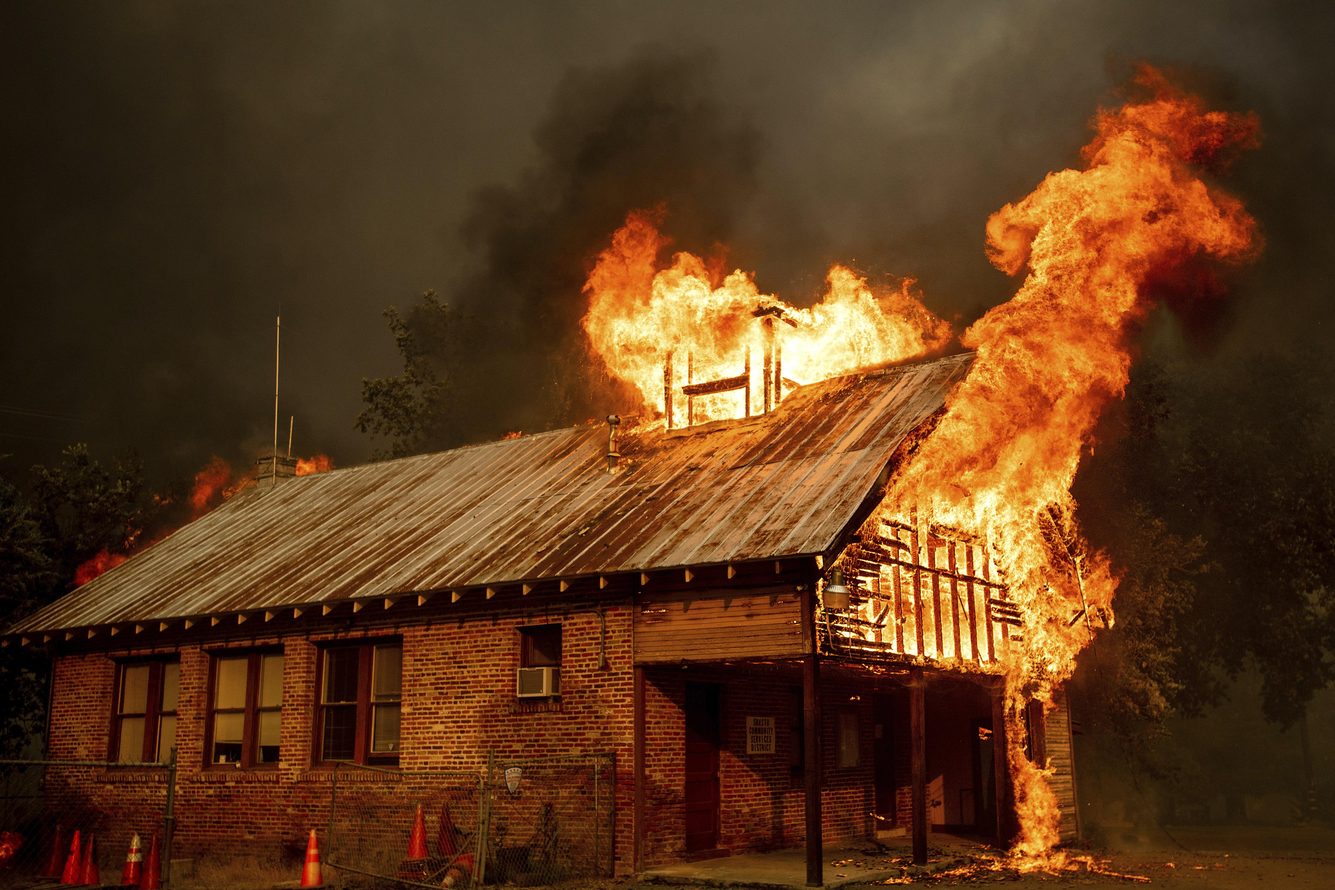fire: (649, 90, 1198, 860)
